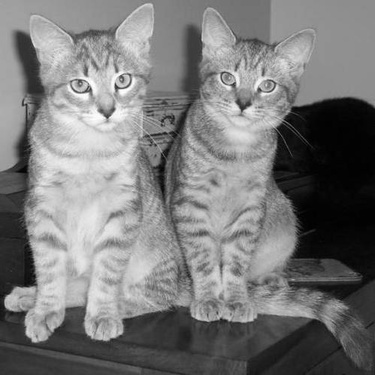cat: (161, 2, 372, 372), (4, 1, 193, 344)
